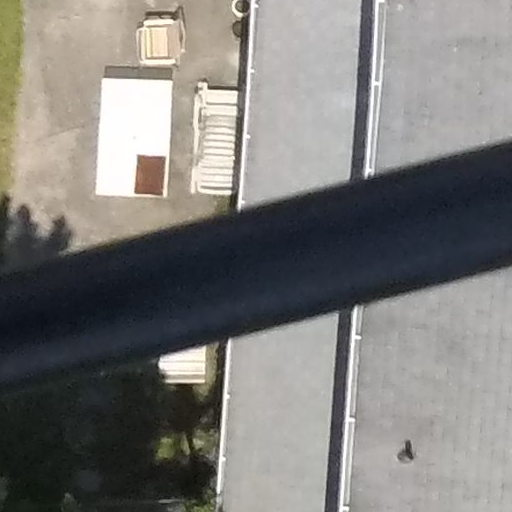container: (226, 18, 252, 43), (226, 1, 256, 15)
